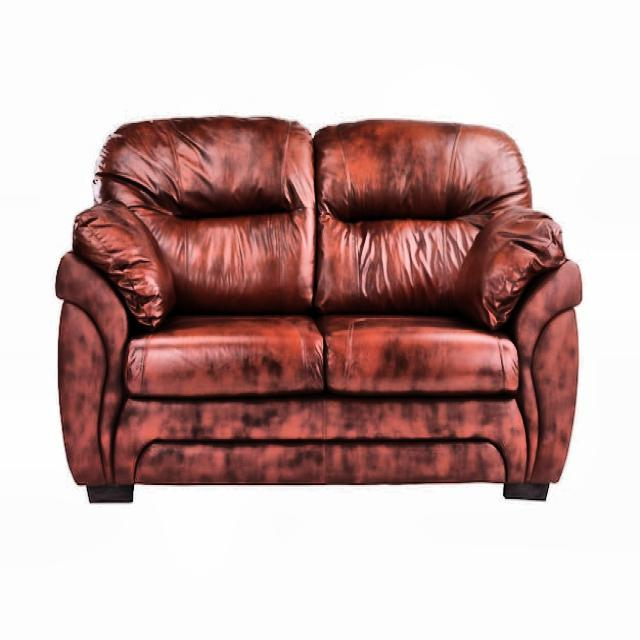sofa: (54, 112, 583, 505)
